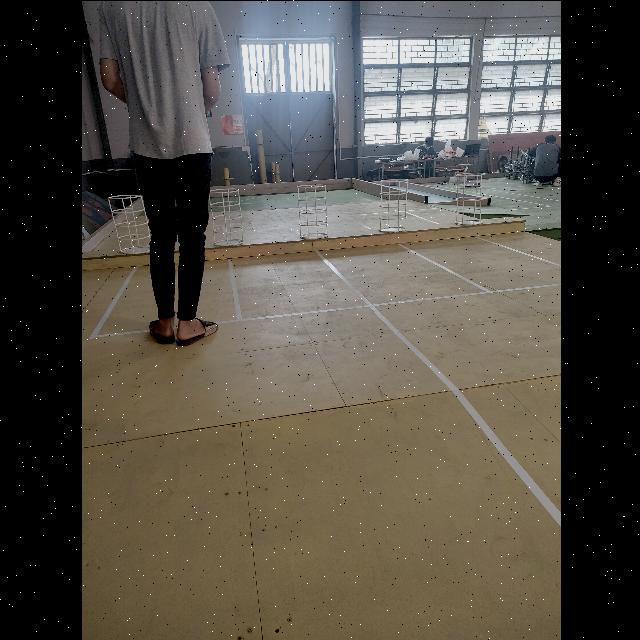S: (106, 193, 149, 253), (207, 186, 243, 246), (295, 183, 327, 239), (376, 178, 408, 232), (453, 171, 484, 225)
